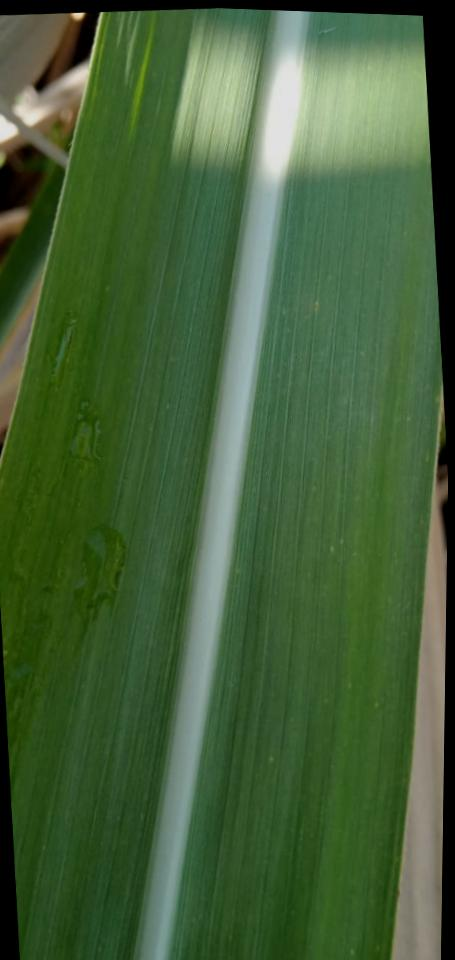Healthy: (0, 8, 441, 960)
